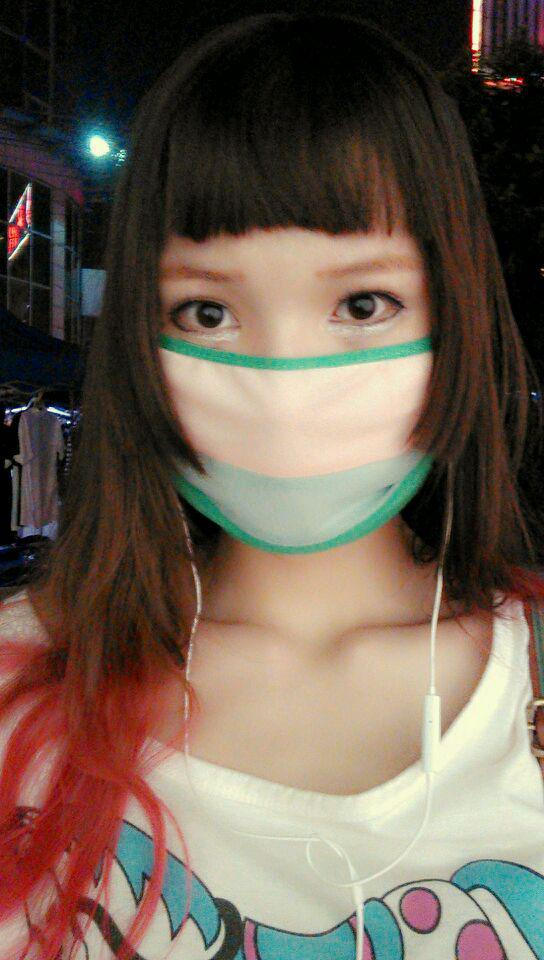OK: (155, 257, 425, 527)
